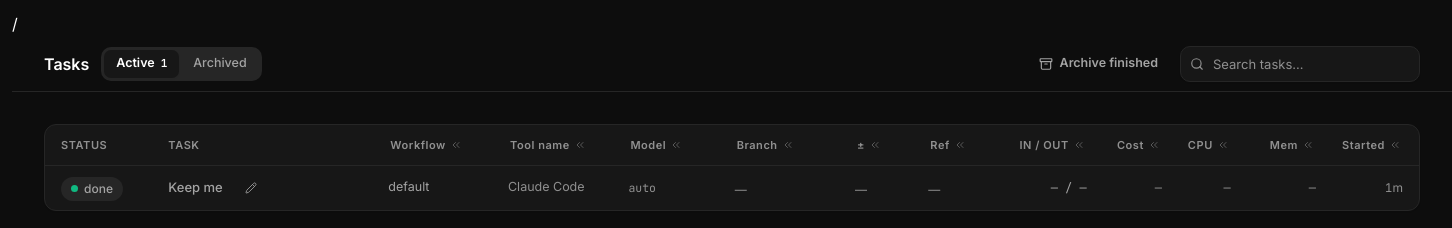
Test case: TasksOverview — inline rename from the table (spec step 15) › Escape abandons the draft — nothing reported, the old title stays
Click the button named "Rename task" at (251, 188), box [229,166,273,210]
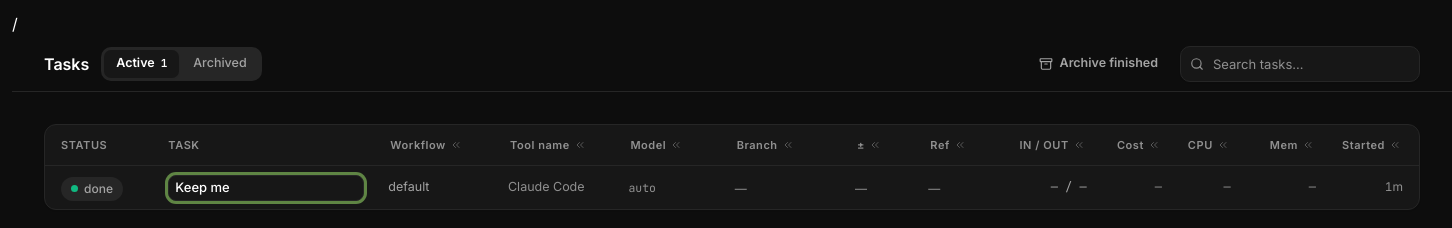
Replace the text in the field named "Task title" with "Never sent" at (266, 188), box [168,175,364,200]
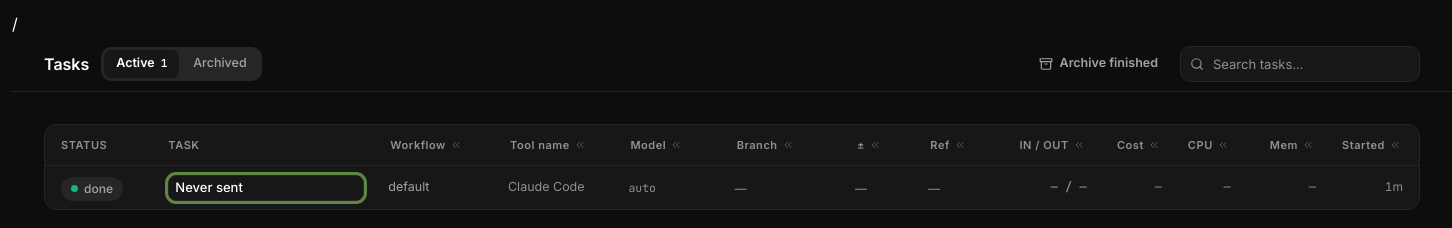
Press Escape in the field named "Task title", box [168,175,364,200]
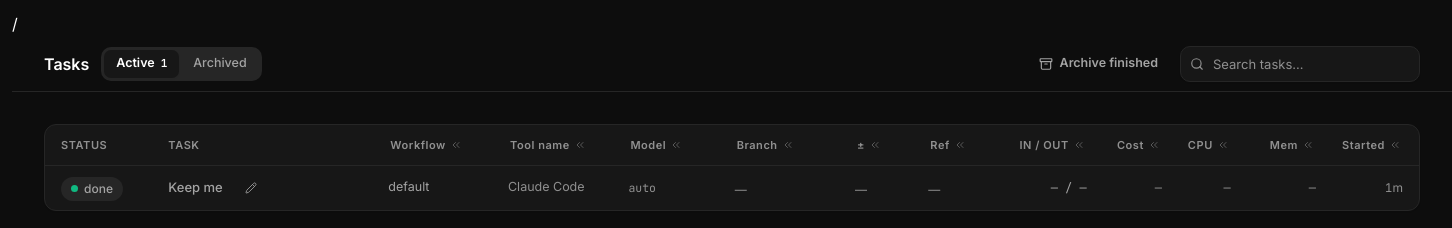
Result: the link "Keep me" is shown at [168,178,223,197]
